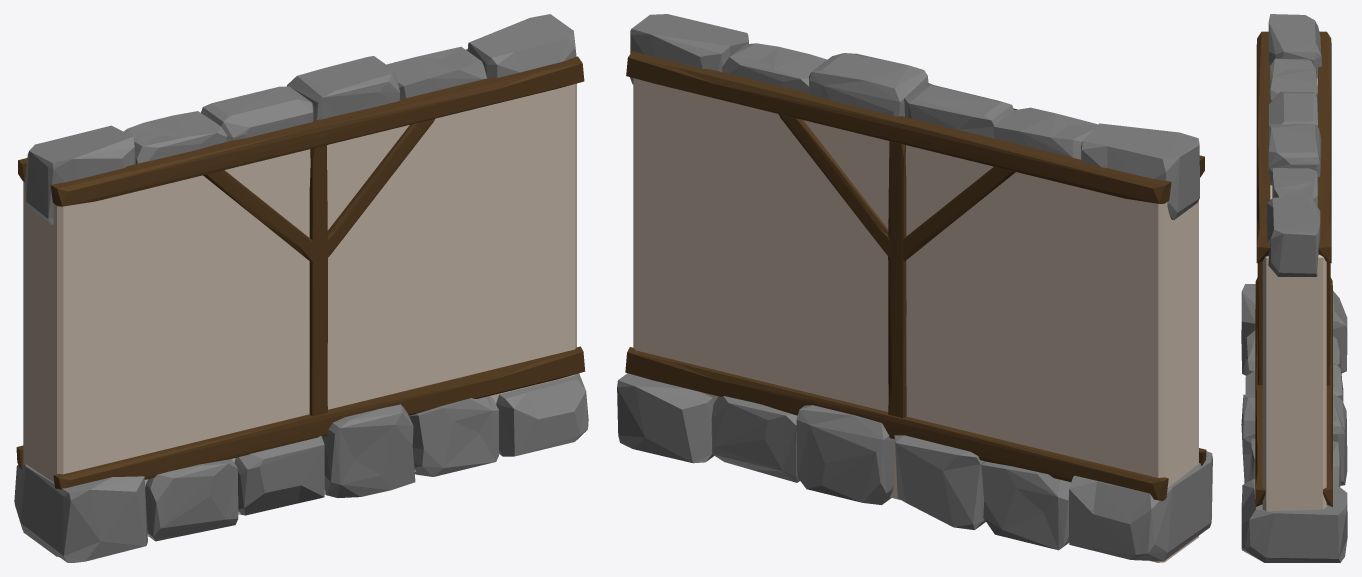
Rendered from SM_wall_modular.fbx.
The picture shows the model from 3 angles, left to right: view 1: azimuth 30°, elevation 25°; view 2: azimuth 150°, elevation 25°; view 3: azimuth 270°, elevation 25°; orthographic projection. The views are drawn at different scales.
Visible parts, largest first — view 1: Box41329; view 2: Box41329; view 3: Box41329.
Part boxes in pixels (left/top/right/bottom): Box41329: left=14, top=14, right=588, bottom=562; Box41329: left=617, top=14, right=1212, bottom=562; Box41329: left=1241, top=14, right=1347, bottom=562.
Bounding box in the file's own units: 158 × 114 × 32.44.
